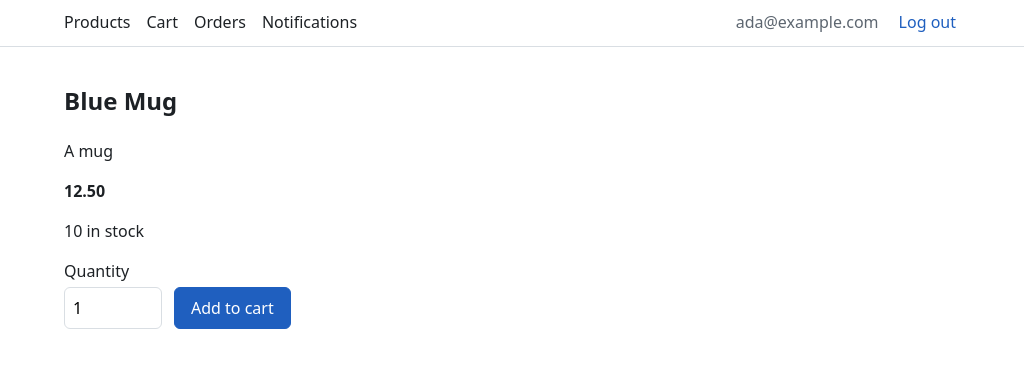
Scenario: checkout › sends ONE request when the button is clicked twice quickly
Step 1. Replace the text in the number field labelled "Quantity" with "2" → (113, 308), box [64, 287, 162, 329]
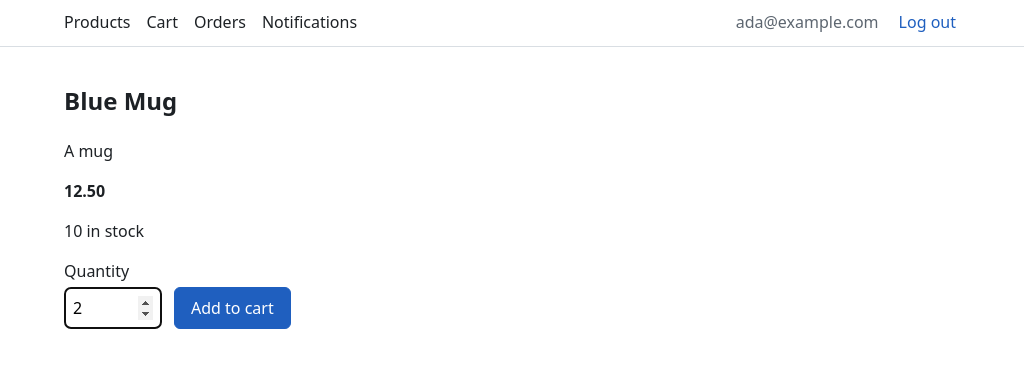
Step 2. Click the button "Add to cart" → (232, 308), box [174, 287, 291, 329]
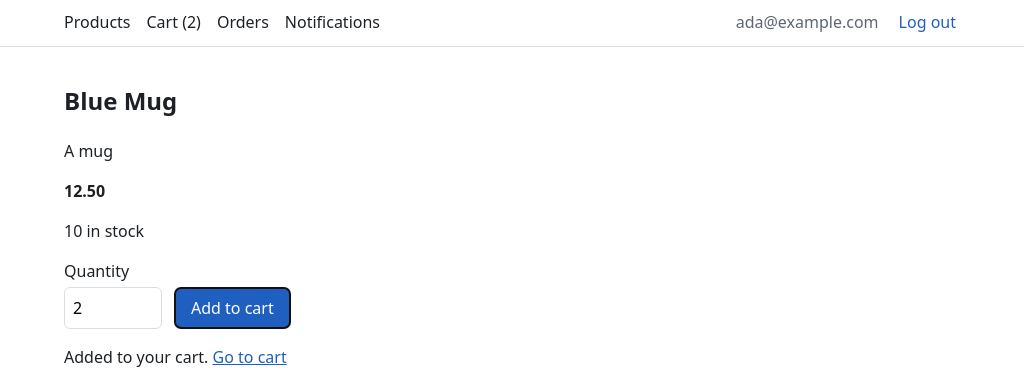
Step 3. Click the link "Go to cart" → (250, 357), box [212, 346, 287, 368]
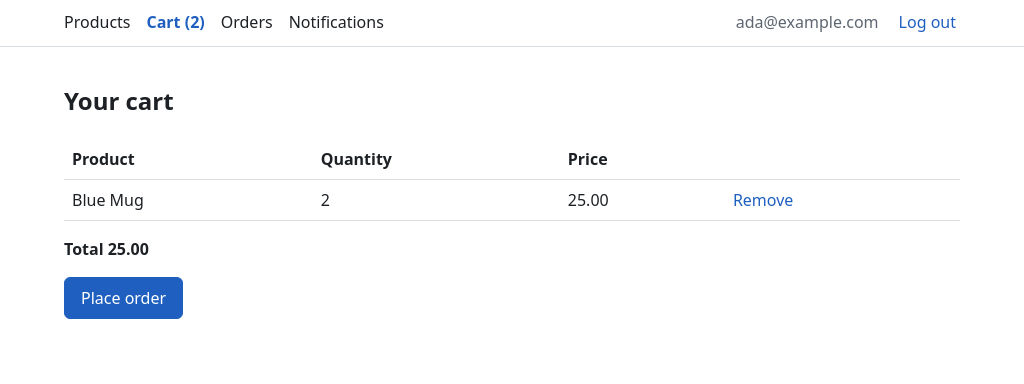
Step 4. Click the button "Place order" → (124, 298), box [64, 277, 183, 319]
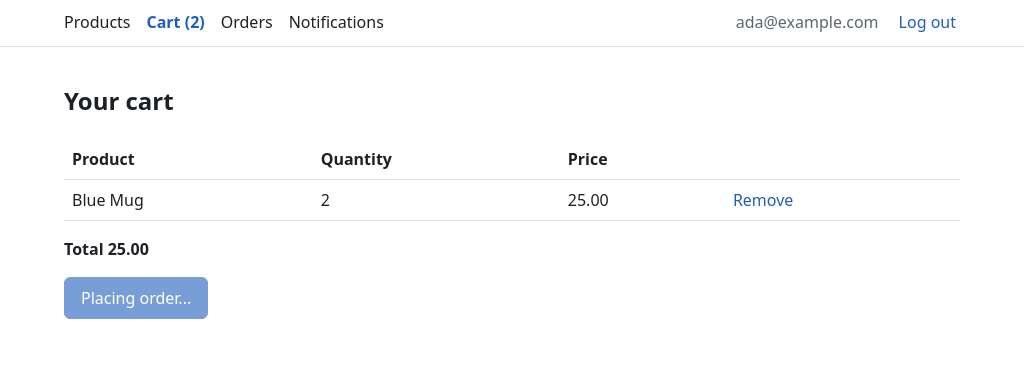
Step 5. Click the button named "Place order" → (136, 298), box [64, 277, 208, 319]
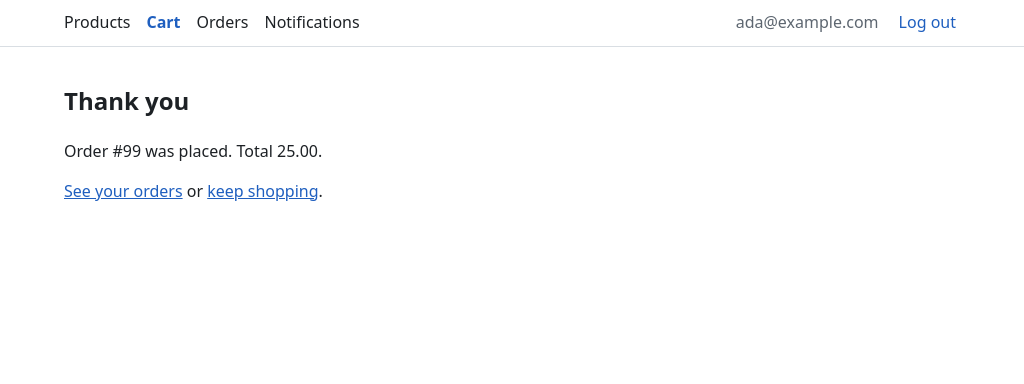
Now the text "Order #99 was placed. Total 25.00." is shown, box [64, 140, 322, 162]
